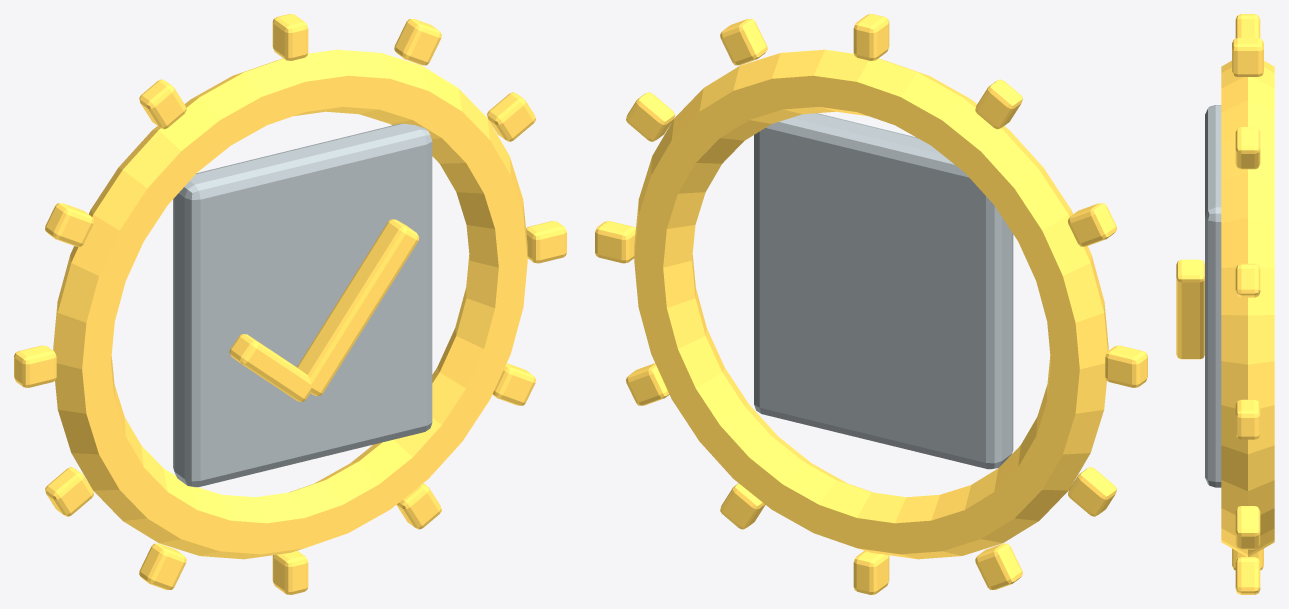
File: Artifact_Agreement.glb
The picture shows the model from 3 angles, left to right: view 1: azimuth 30°, elevation 25°; view 2: azimuth 150°, elevation 25°; view 3: azimuth 270°, elevation 25°; orthographic projection. The views are drawn at different scales.
Visible parts, largest first — view 1: Artifact_Agreement_Mesh; view 2: Artifact_Agreement_Mesh; view 3: Artifact_Agreement_Mesh.
Part boxes in pixels (x1=…): Artifact_Agreement_Mesh: x1=14, y1=14, x2=566, y2=594; Artifact_Agreement_Mesh: x1=595, y1=14, x2=1147, y2=594; Artifact_Agreement_Mesh: x1=1176, y1=14, x2=1274, y2=594.
Bounding box in the file's own units: 0.64 × 0.64 × 0.1084.
